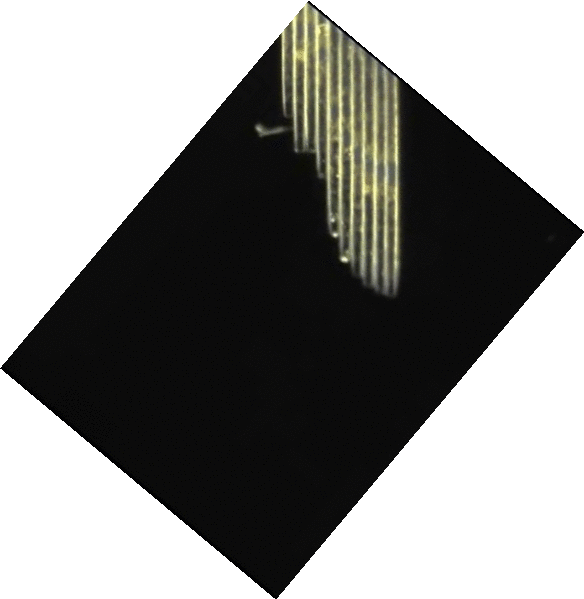bacilleria: (338, 28, 351, 265), (362, 48, 374, 289), (351, 39, 363, 278), (386, 68, 398, 299), (328, 21, 340, 238), (375, 59, 386, 295), (303, 5, 319, 152), (316, 11, 330, 177), (294, 11, 306, 153), (282, 24, 296, 118)
